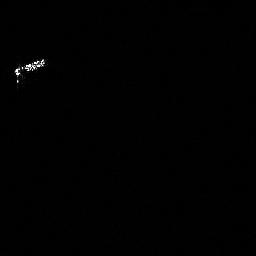ship: (14, 57, 45, 77)
